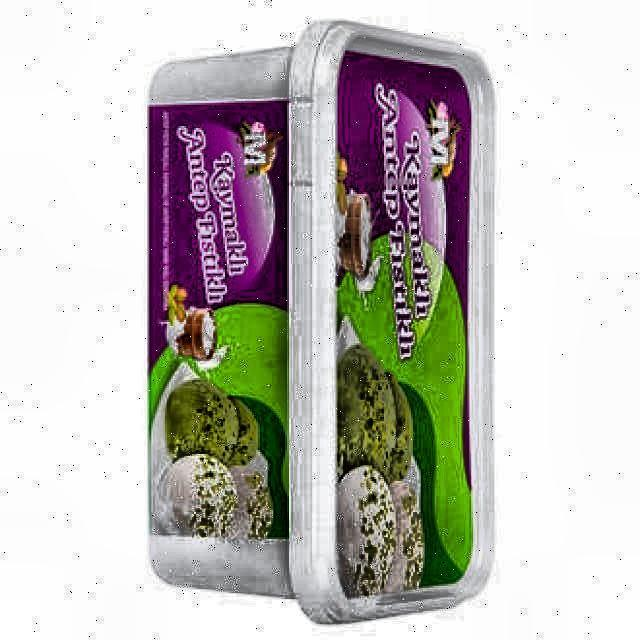plastic: (147, 21, 494, 623)
